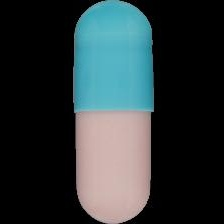0615-7703: (0, 0, 224, 224)
